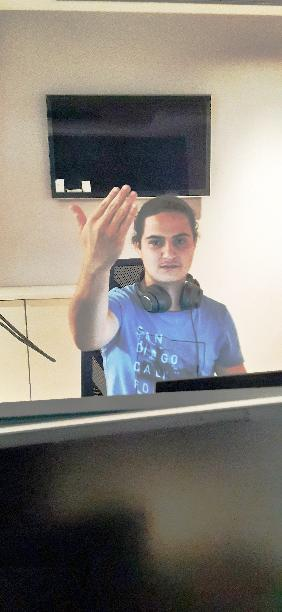Paper: (72, 178, 140, 269)
